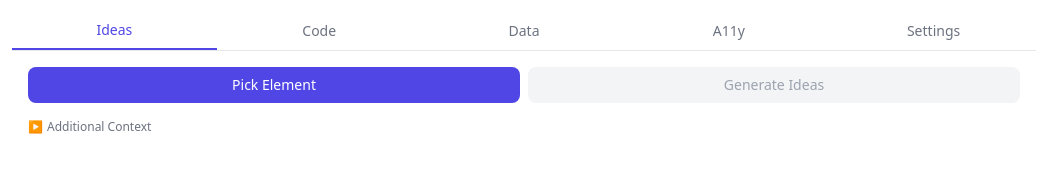
Test: App › switches to A11y tab on click
Click the tab "A11y" at x=729, y=31, box [626, 12, 831, 50]
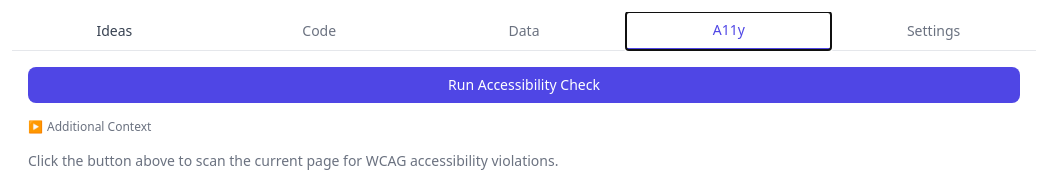
Now the button "Run Accessibility Check" is shown, box [28, 67, 1020, 103]
